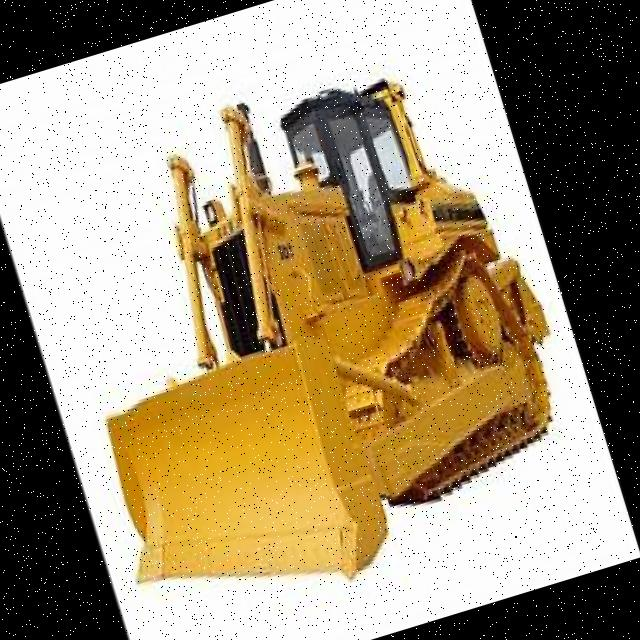Bulldozer: (0, 16, 604, 640)
